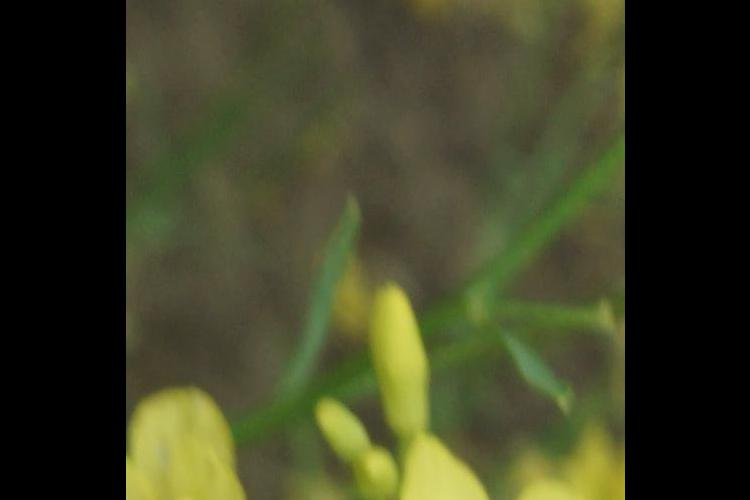bud: (361, 264, 444, 450), (304, 397, 378, 462), (351, 444, 406, 500)
yellow: (132, 374, 261, 500), (399, 435, 622, 500)
